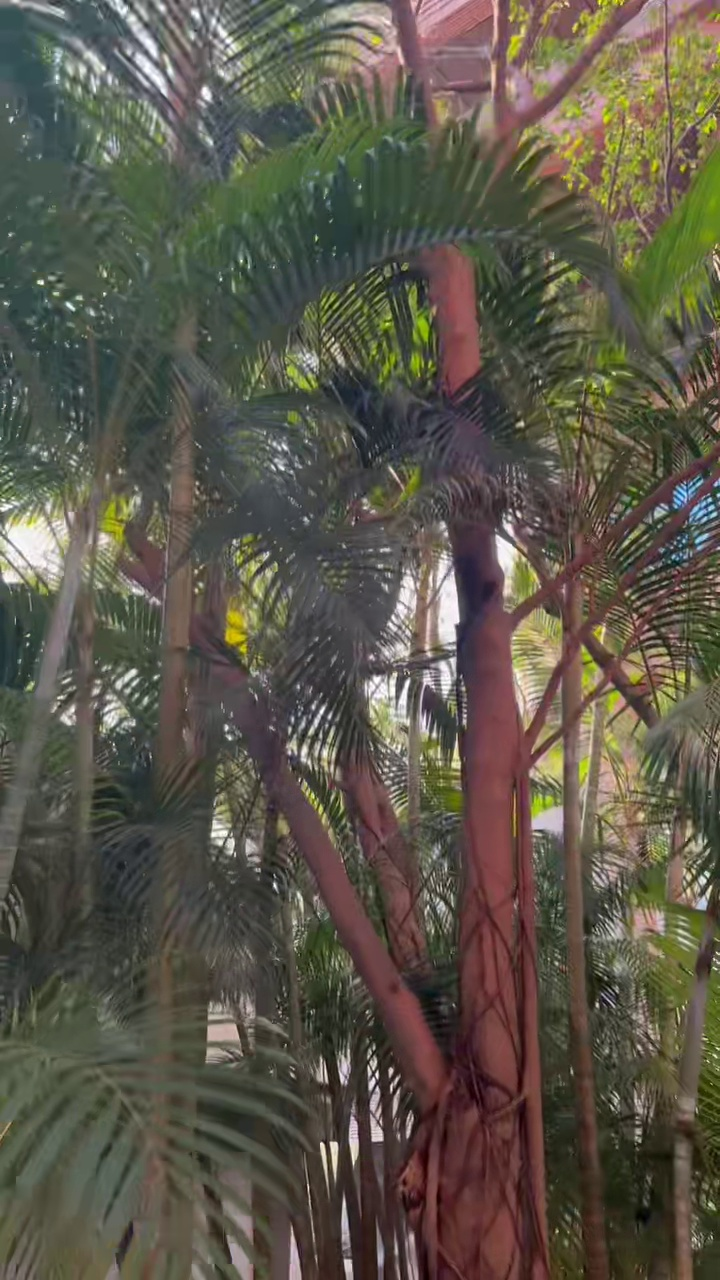Ficus benjamina: (219, 0, 636, 1279)
